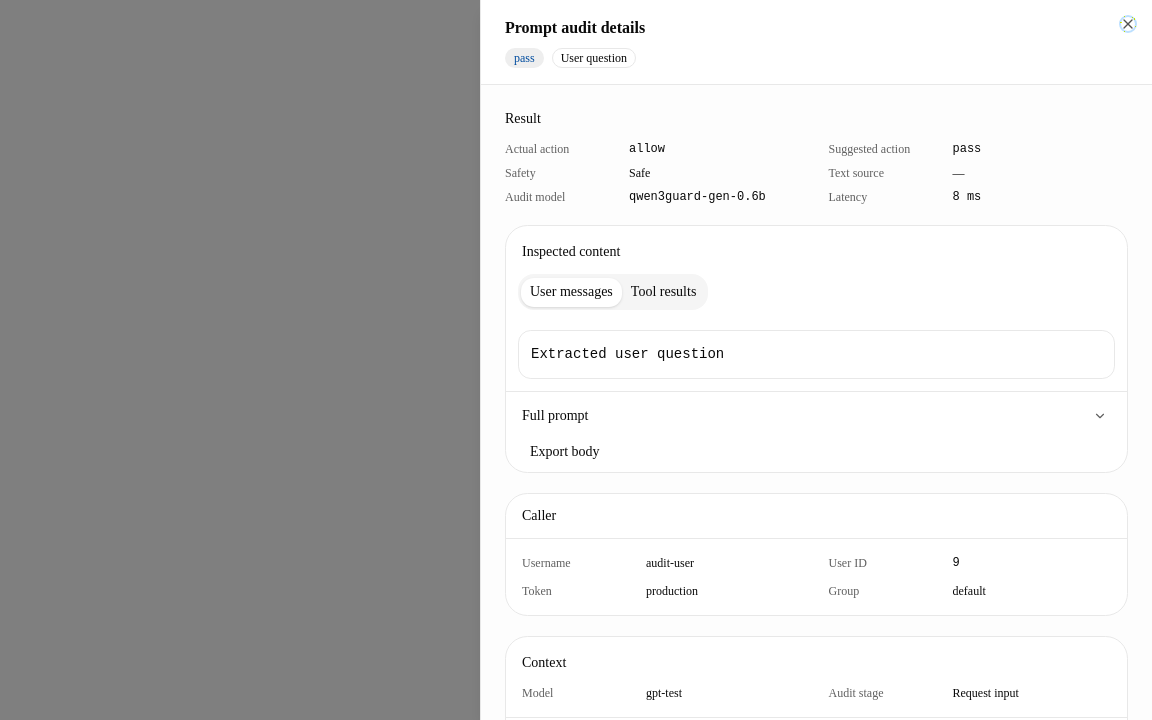
prompt audit management components › shows the selected source text when its tab is chosen
Click the tab "Tool results" at (664, 292), box [622,278,705,306]
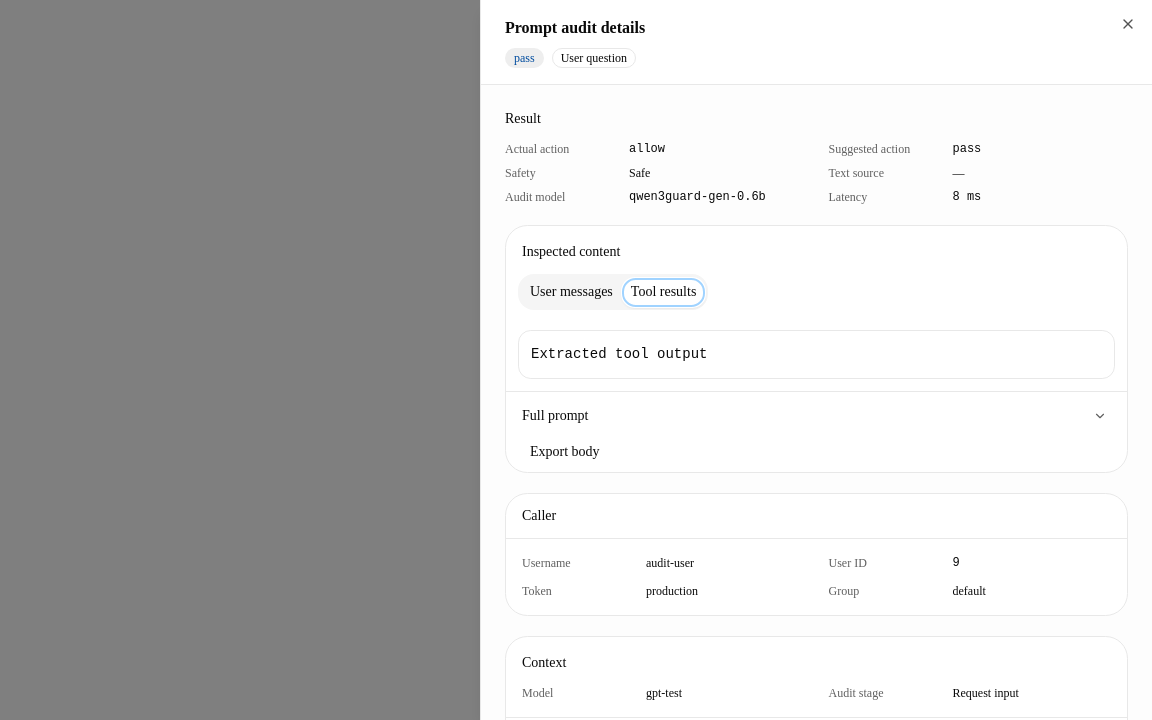
expect the text "Extracted tool output" is shown: met, box [531,346,707,362]
expect the text "Extracted user question" is gone: met
